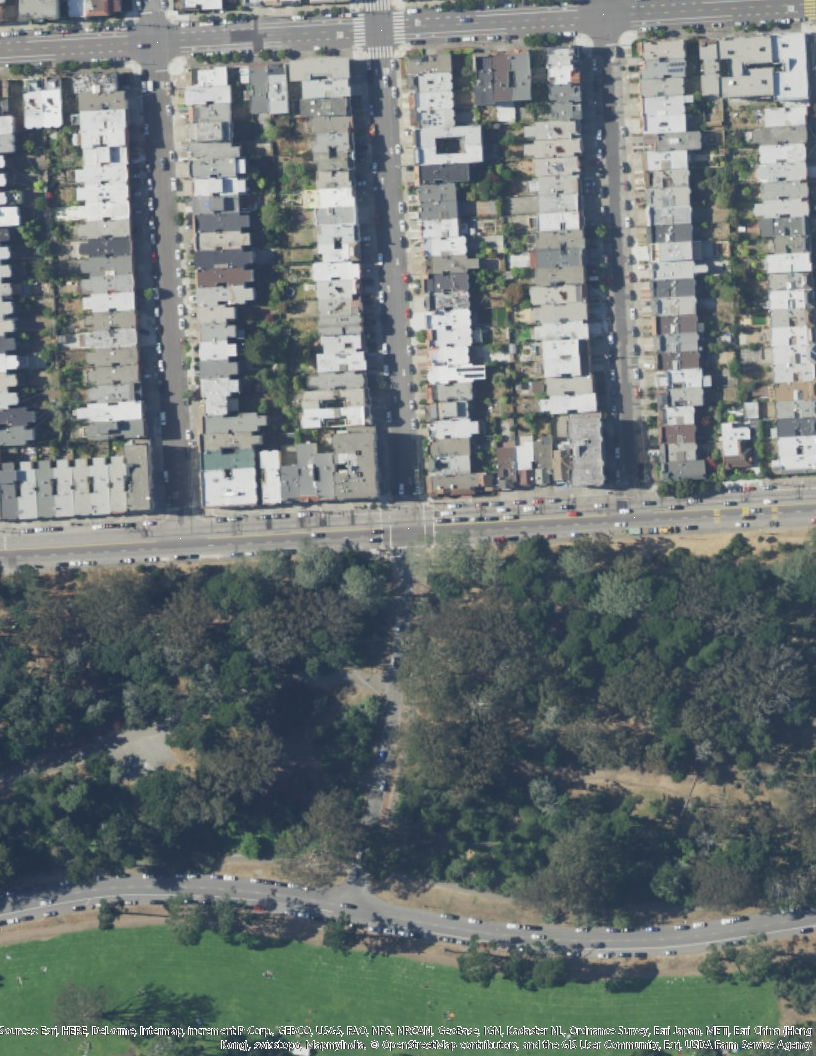zebracross: (391, 12, 407, 45), (353, 13, 366, 45), (368, 45, 393, 59), (363, 1, 390, 12)
